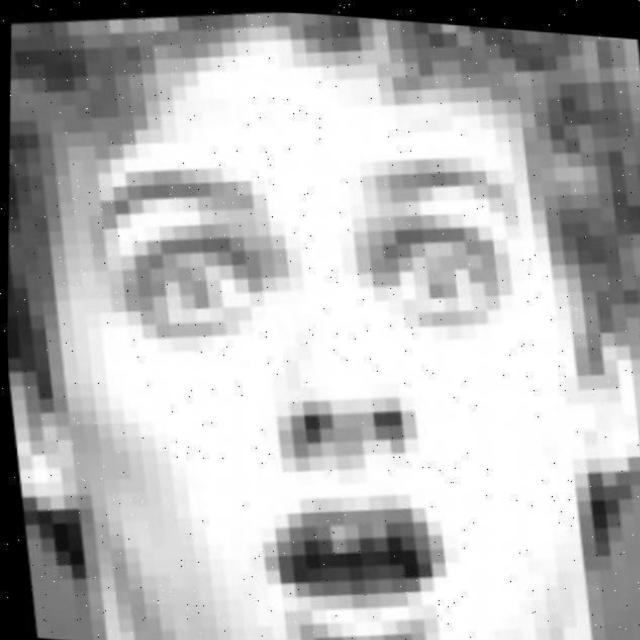Surprised: (3, 113, 640, 640)
